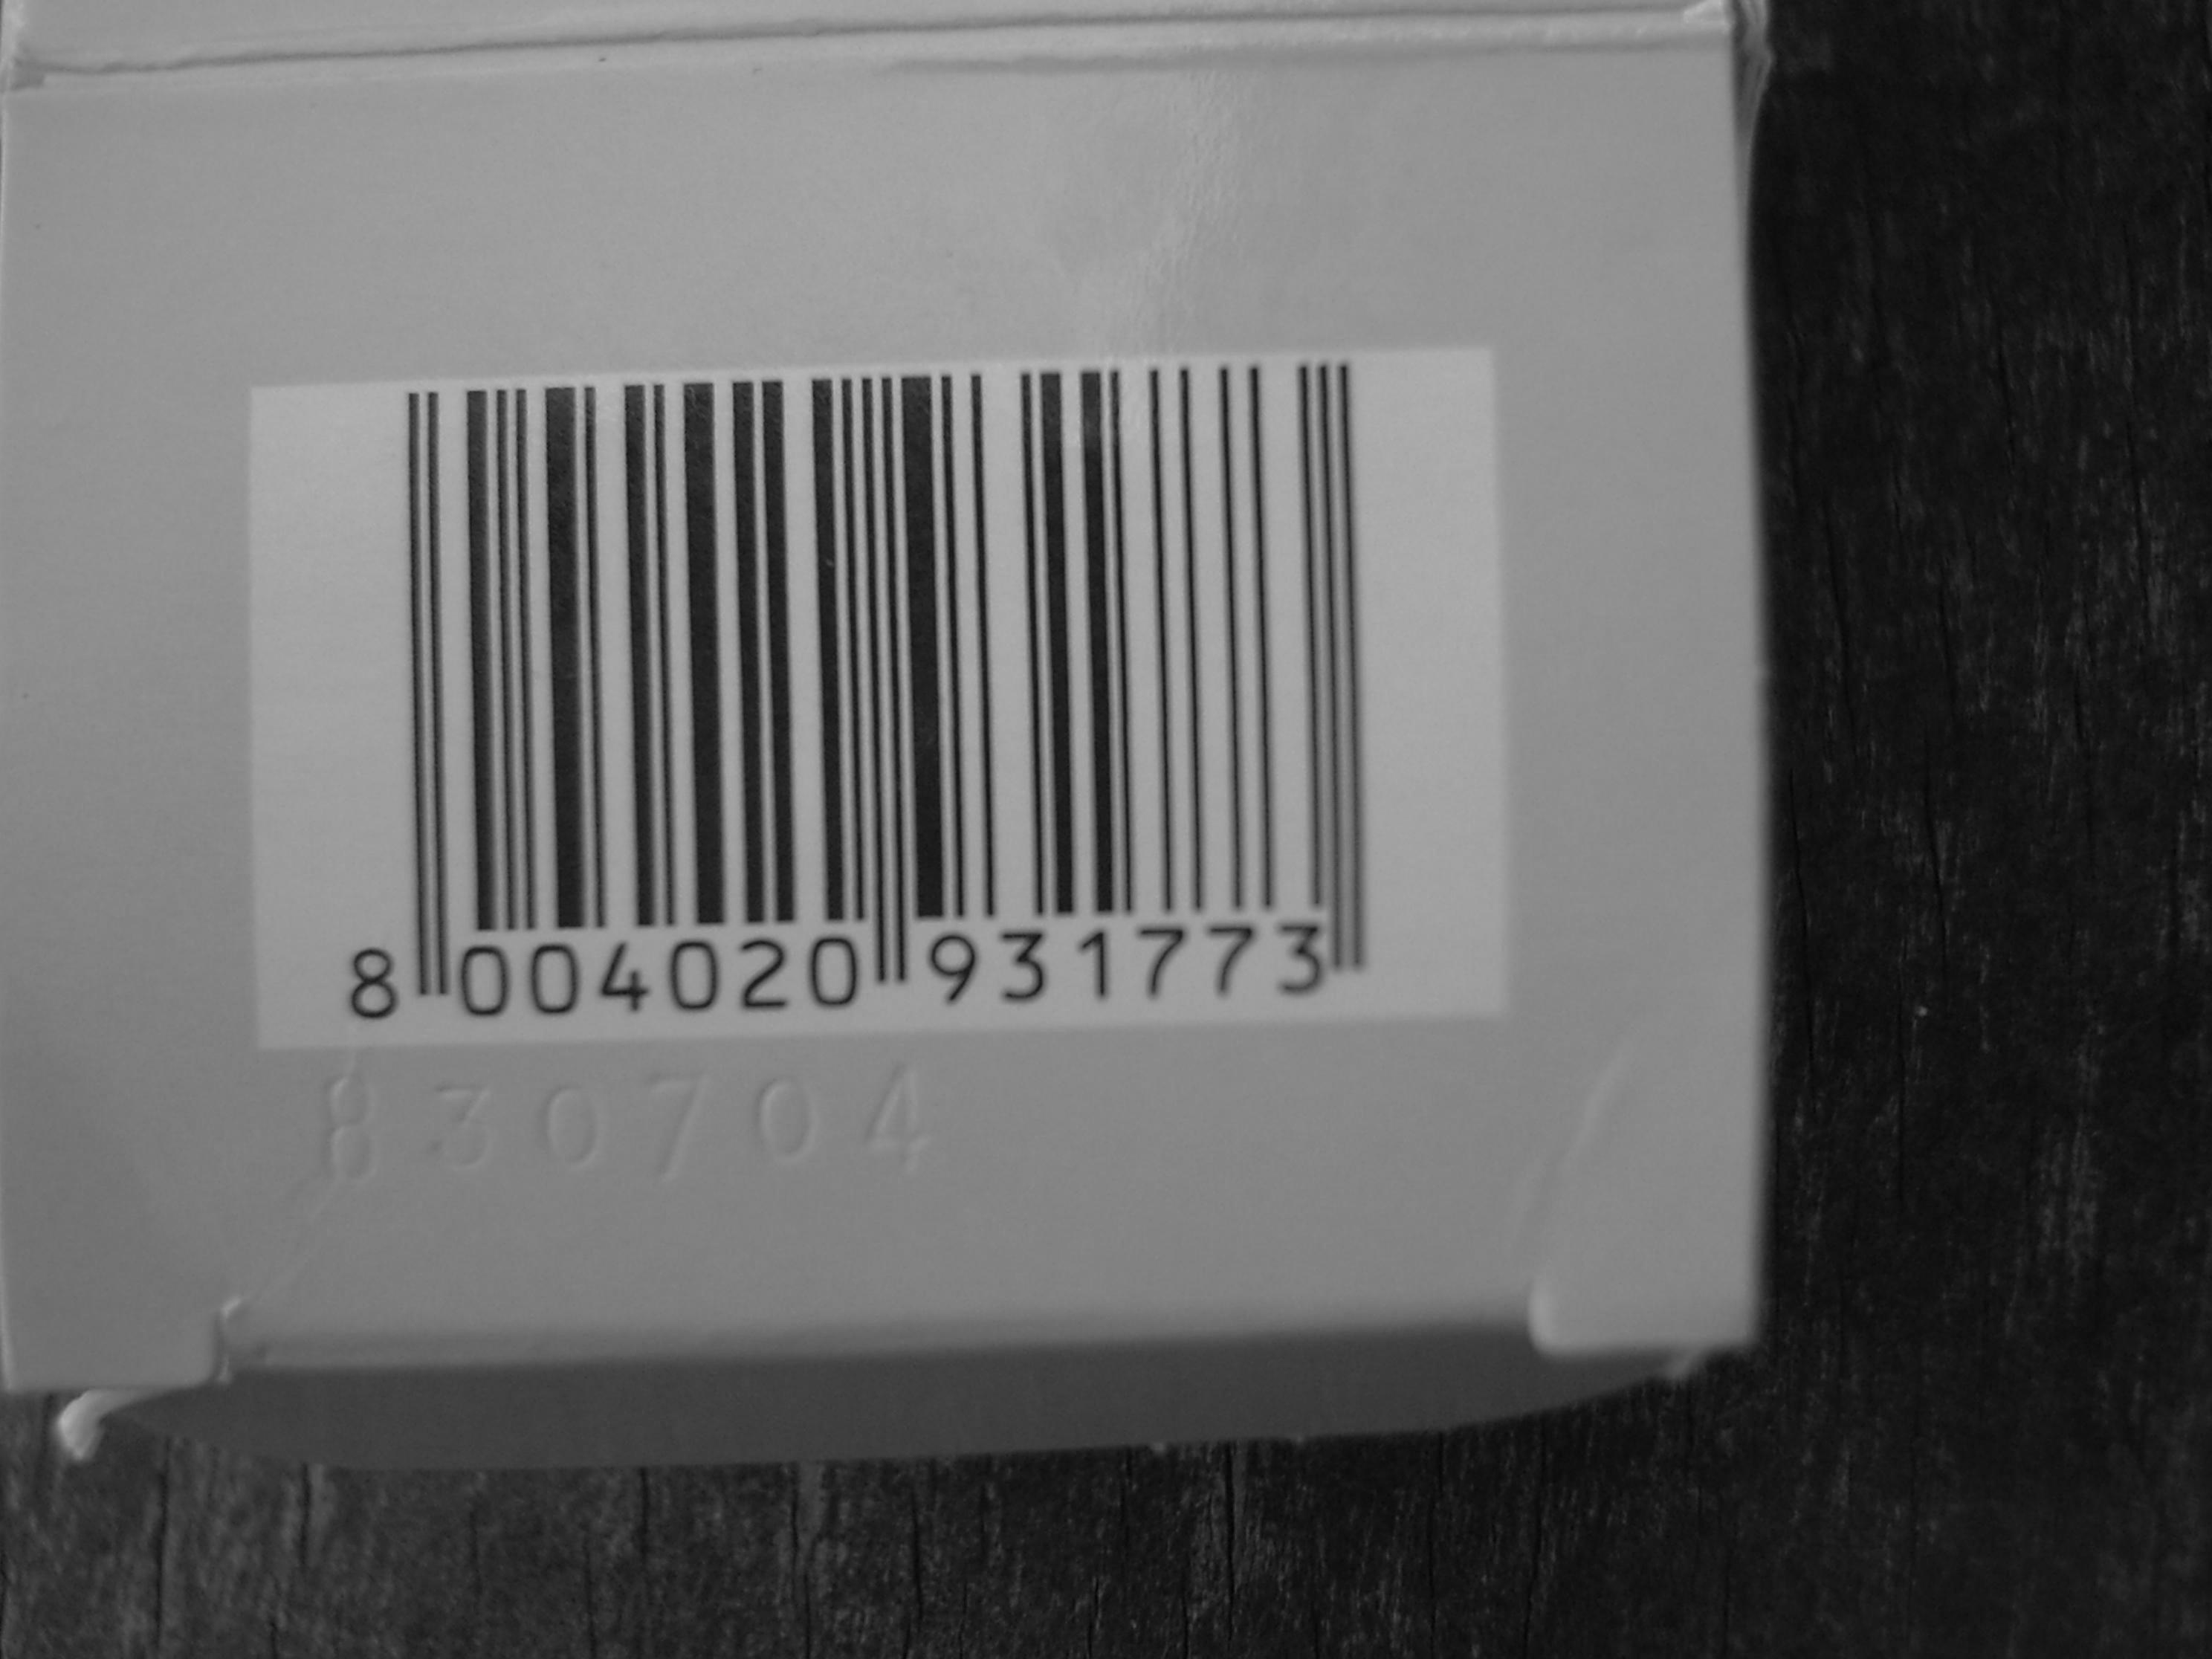Barcode: (336, 305, 1496, 1009)
